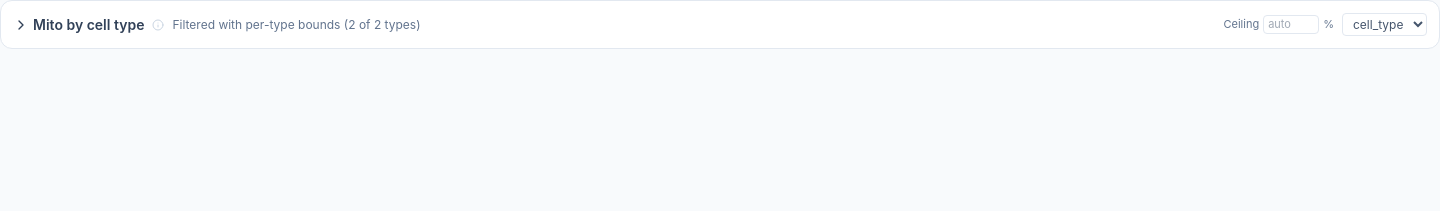
Test: MitoByType › reads a dataset filtered with per-type bounds: the bound each type had, no re-filter
Expected: the text "Filtered with per-type bounds (2 of 2 types)" is shown, [172,16,421,32]
Click the button "Mito by cell type". click: coordinates (79, 24)
box: [13,14,144,34]
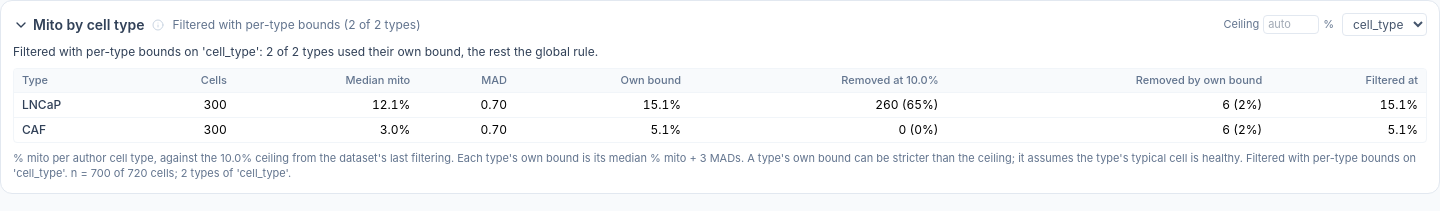
Expected: the column heading "Filtered at" is shown, [1270,69,1426,92]
Expected: the row with test id "mito-row-LNCaP" shows "15.1%", [643,97,681,112]
Expected: the text "Filtered with per-type bounds on 'cell_type'." is shown, [13,151,1416,180]
